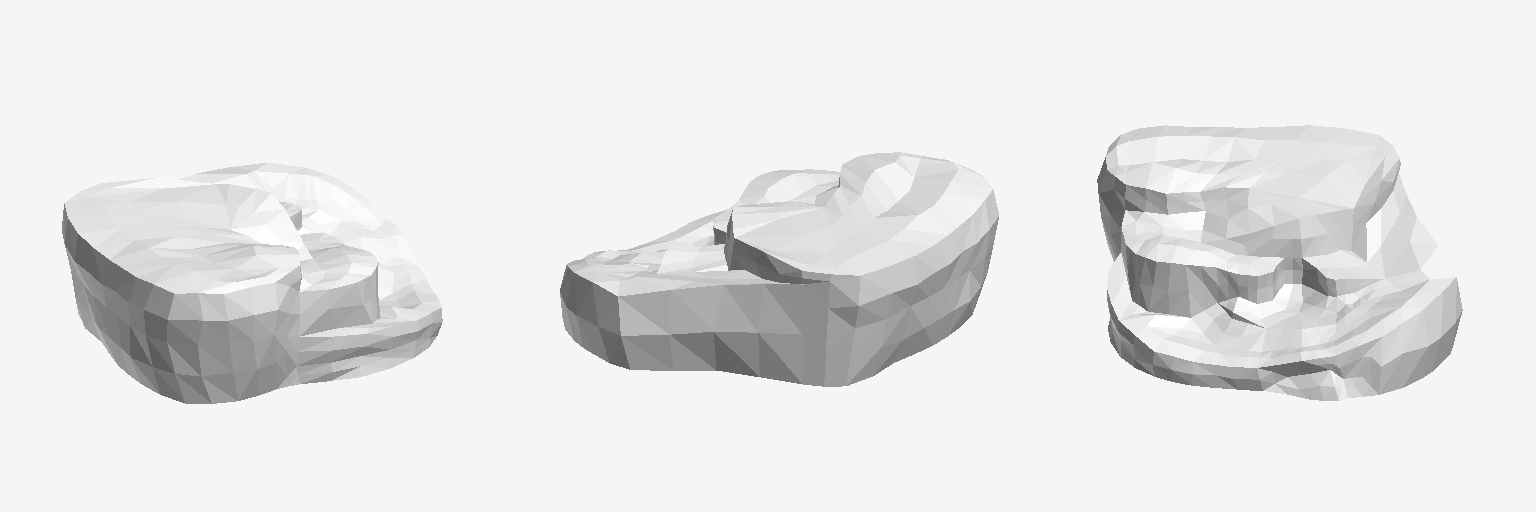
Rendered from island.obj.
3 views of the same model, side by side, from view 1: azimuth 30°, elevation 25°; view 2: azimuth 150°, elevation 25°; view 3: azimuth 270°, elevation 25° (orthographic).
Visible parts, largest first — view 1: mff_island_large; view 2: mff_island_large; view 3: mff_island_large.
Part boxes in pixels (bbox=[...]): mff_island_large: bbox=[62, 163, 442, 403]; mff_island_large: bbox=[560, 152, 998, 386]; mff_island_large: bbox=[1097, 125, 1462, 400].
Size of the model in its own units: 33.34 by 11.85 by 31.29.